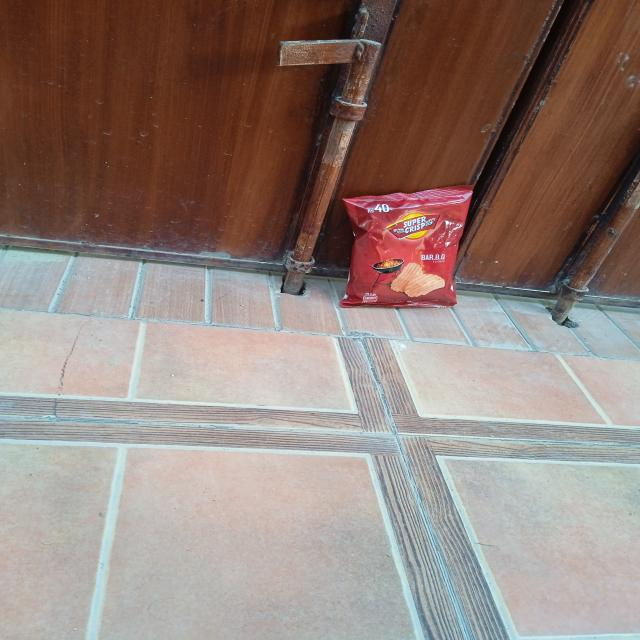Plastic: (341, 184, 469, 306)
